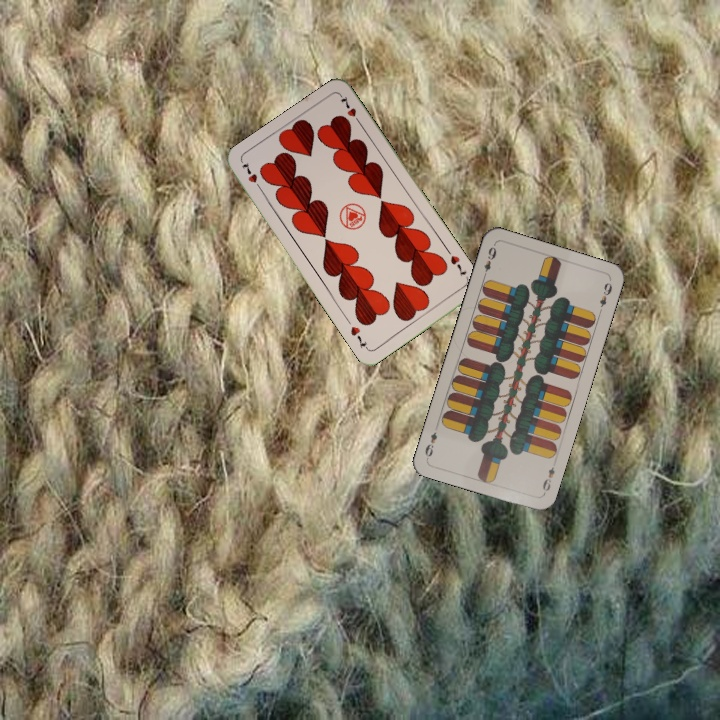E9: (479, 241, 499, 281), (538, 458, 558, 497)
H7: (237, 158, 265, 194), (446, 251, 469, 279)
